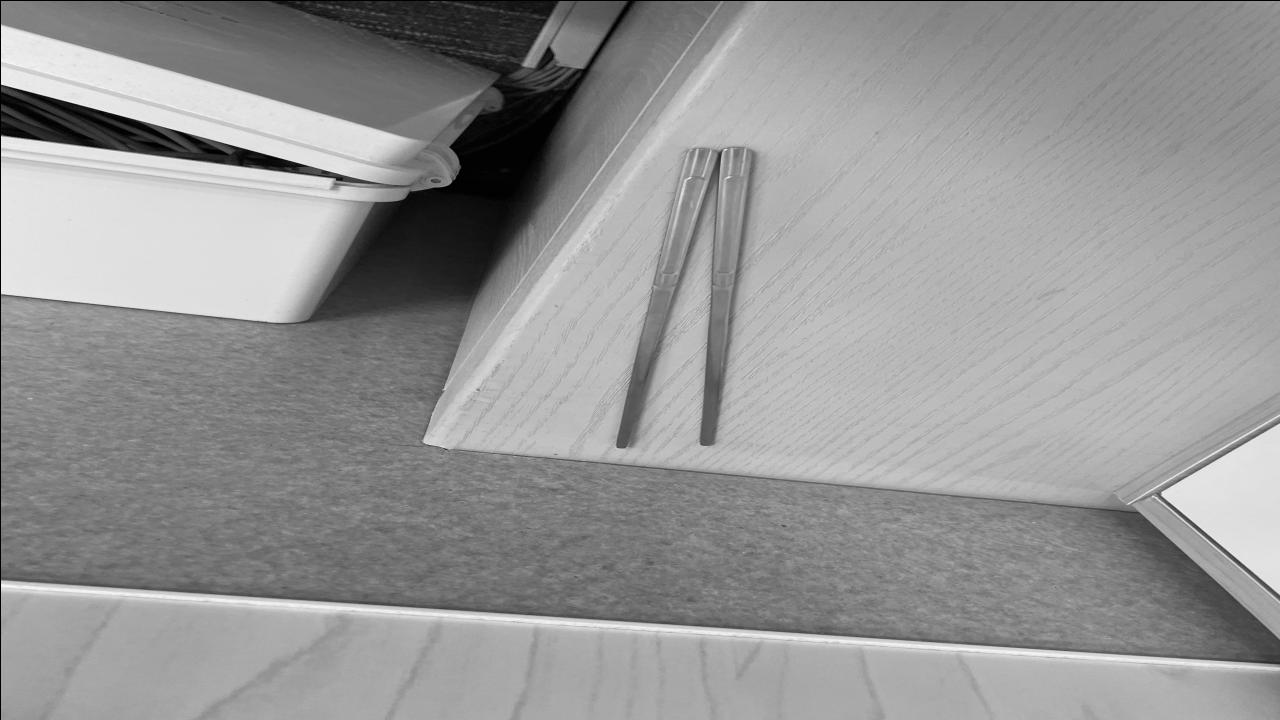chopstick: (612, 144, 758, 446)
